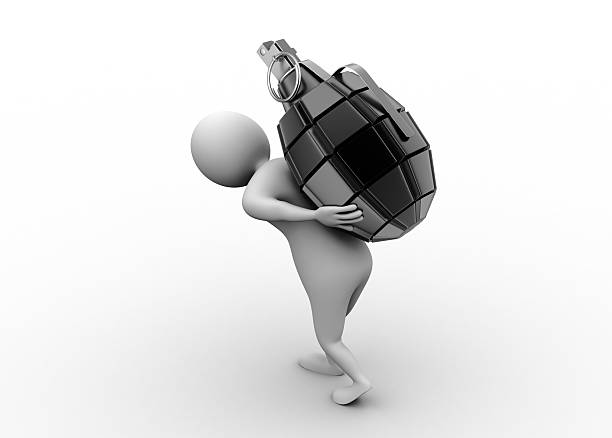e1: (257, 37, 439, 243)
